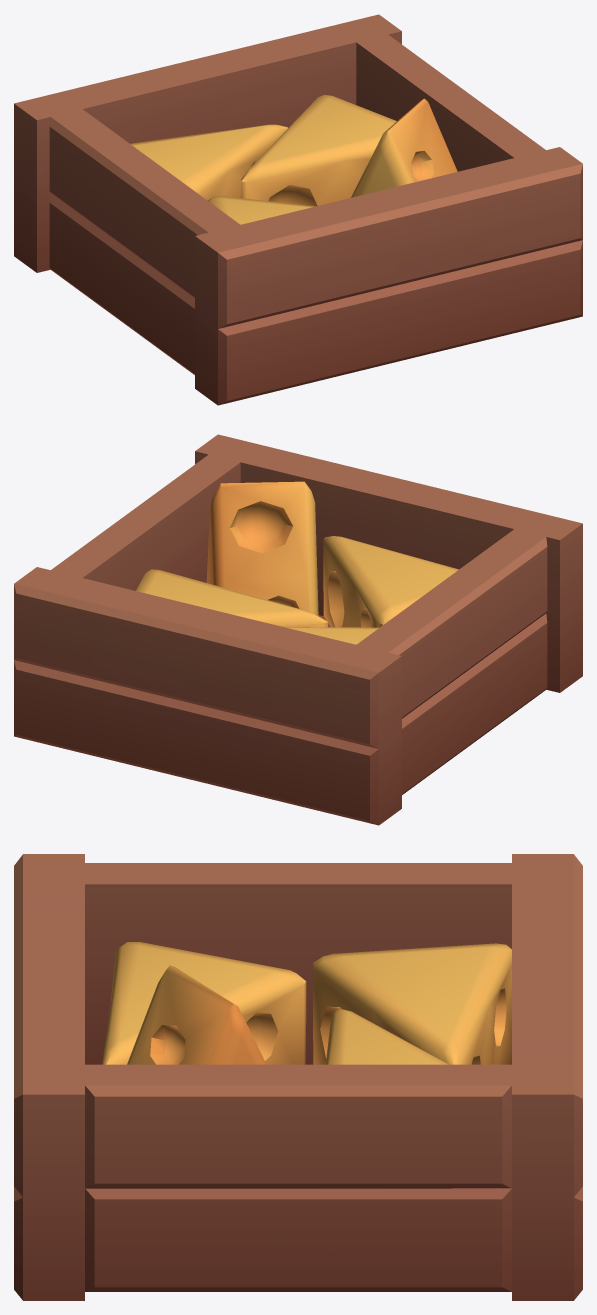
File: kaykit-restaurant-bits-crate-cheese.glb
3 renders of one model, top to bottom at view 1: azimuth 30°, elevation 25°; view 2: azimuth 150°, elevation 25°; view 3: azimuth 270°, elevation 25°, orthographic. The views are drawn at different scales.
Visible parts, largest first — view 1: crate_cheese; view 2: crate_cheese; view 3: crate_cheese.
Part boxes in pixels (x1,y1,x2,y2): crate_cheese: (14, 14, 582, 405); crate_cheese: (14, 434, 582, 825); crate_cheese: (14, 854, 582, 1300).
Bounding box in the file's own units: 2 × 0.9459 × 2.
Materials: 1 (1 with a texture image).
